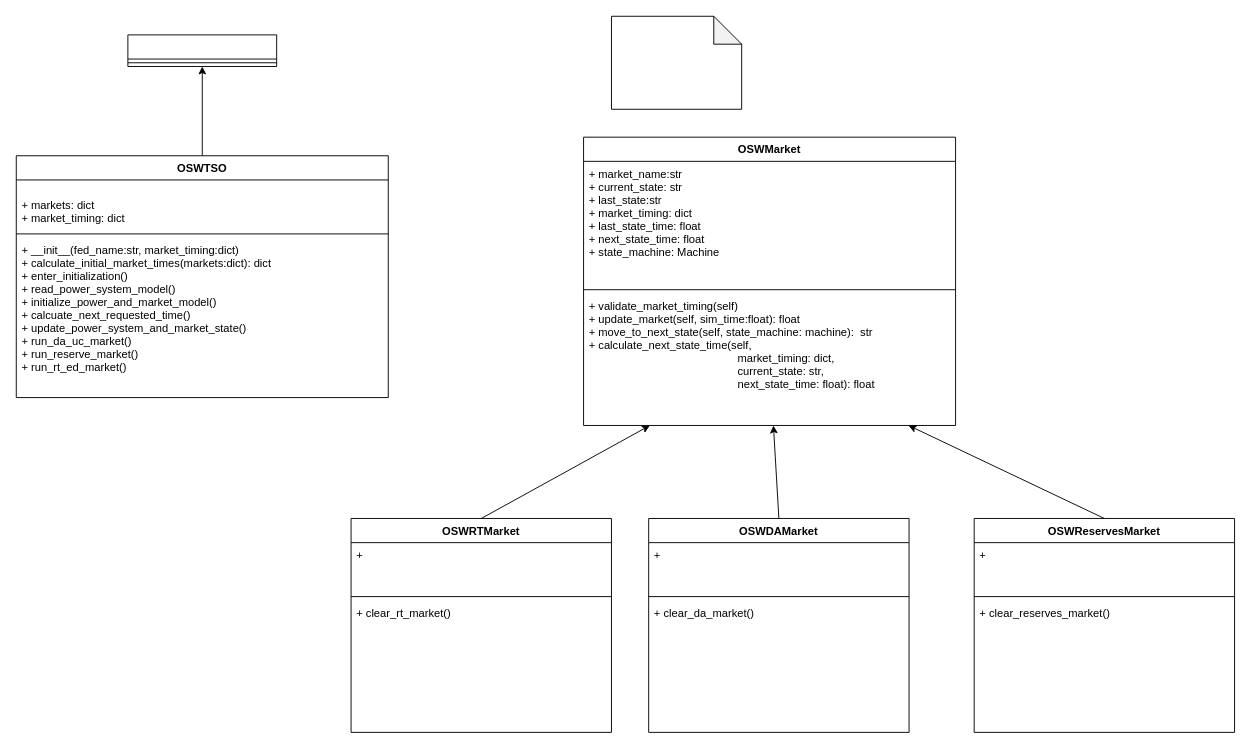
Some shapes in this 1251 by 751 pixel diagram are drawn without their labels. Each missing label, with the centre of its shape:
Federate: the point at 202,50
Maybe OSWMarket should be an abstract class?: the point at 676,62
